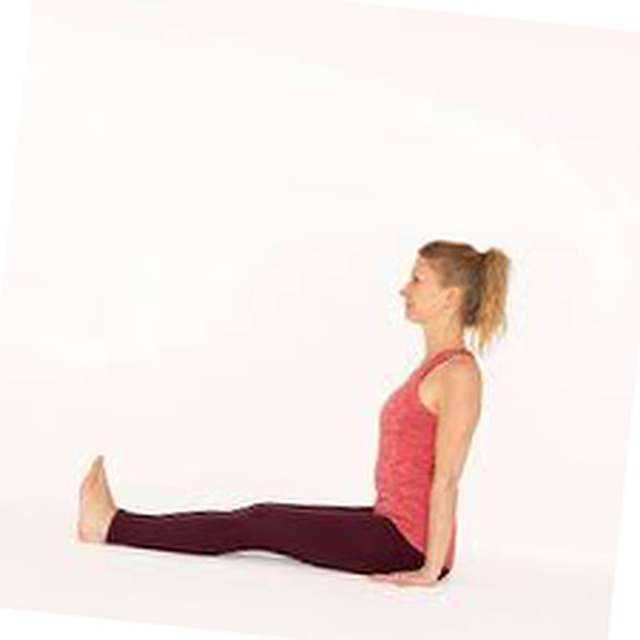Staff_Pose: (76, 240, 512, 589)
